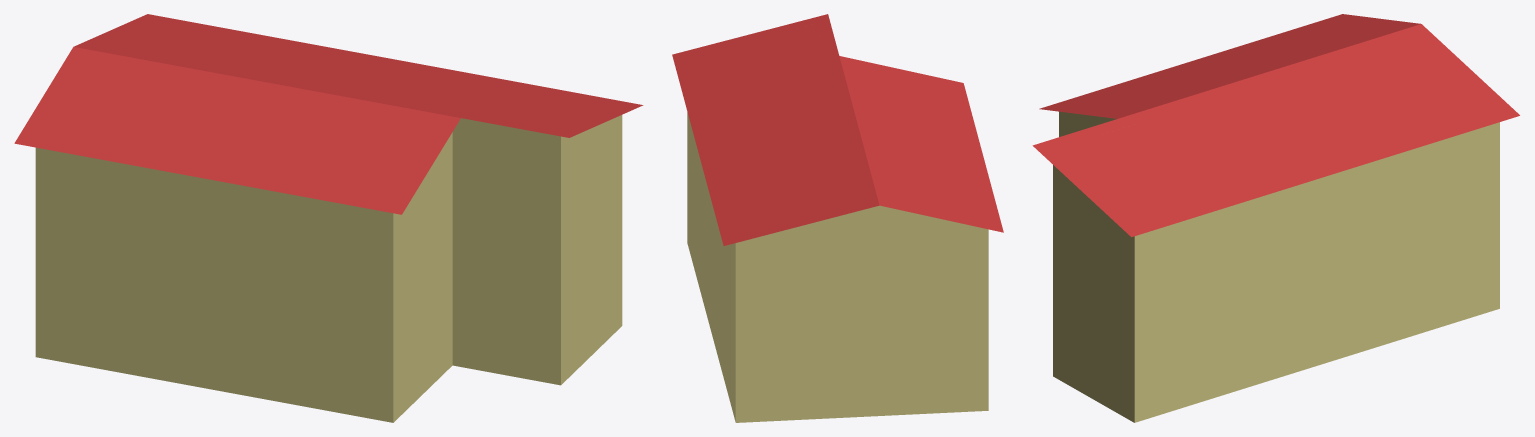
The picture shows the model from 3 angles, left to right: view 1: azimuth 30°, elevation 25°; view 2: azimuth 150°, elevation 25°; view 3: azimuth 270°, elevation 25°; orthographic projection. The views are drawn at different scales.
Size of the model in its own units: 18.08 by 16.7 by 8.66.
